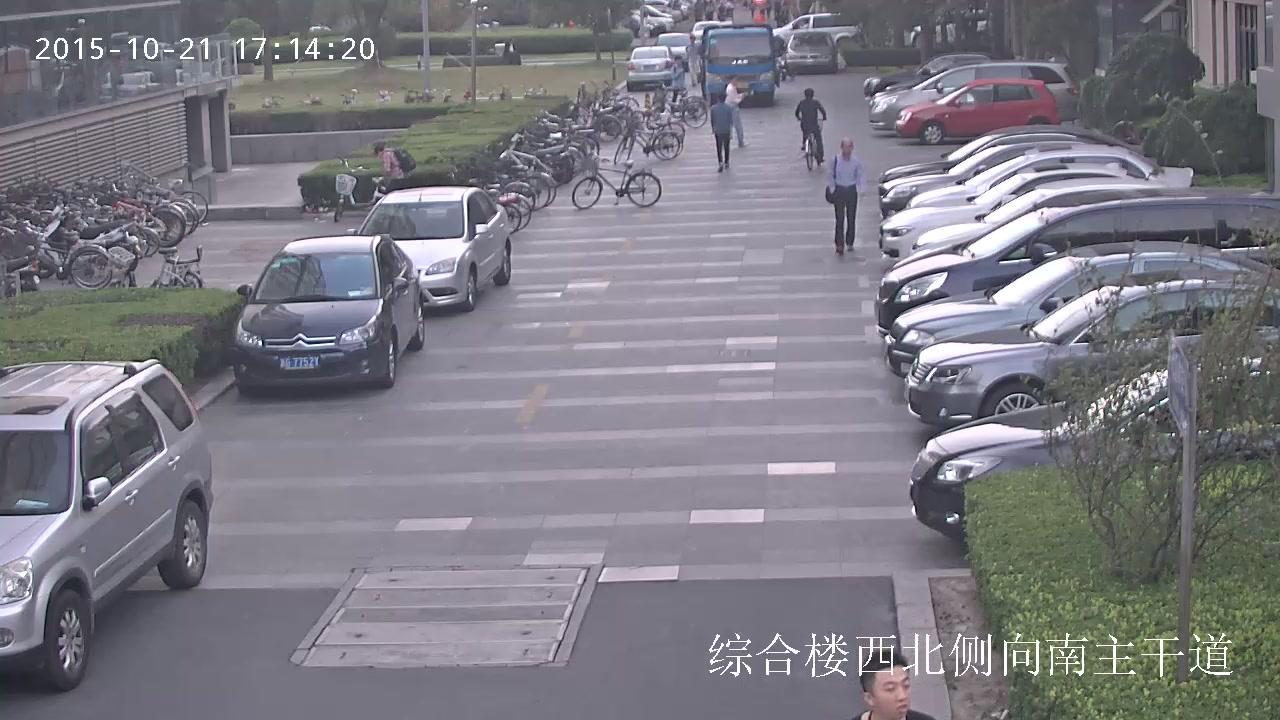face: (872, 665, 910, 718), (841, 138, 852, 154), (731, 76, 737, 83), (675, 58, 682, 64), (689, 37, 694, 43), (376, 153, 382, 157), (511, 39, 514, 42)
